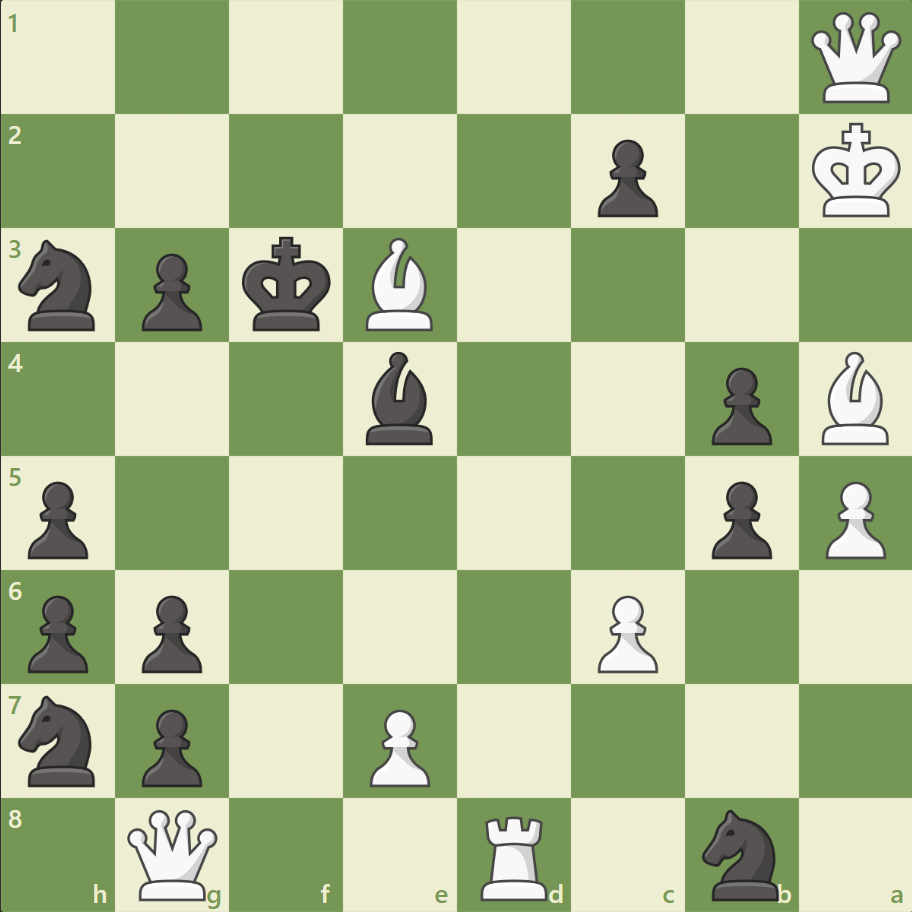B: (358, 233, 442, 336), (812, 347, 896, 449)
K: (806, 117, 906, 225)
P: (361, 700, 435, 791), (588, 586, 662, 677), (815, 473, 889, 564)
Q: (124, 804, 223, 903), (805, 9, 904, 108)
R: (473, 806, 556, 904)
b: (358, 347, 442, 449)
k: (238, 231, 338, 339)
n: (11, 688, 108, 791), (11, 234, 108, 337), (692, 802, 789, 904)
p: (133, 700, 208, 791), (133, 586, 208, 677), (20, 586, 95, 677), (701, 473, 776, 564), (20, 473, 95, 564), (701, 359, 776, 450), (133, 246, 208, 337), (588, 132, 662, 223)
